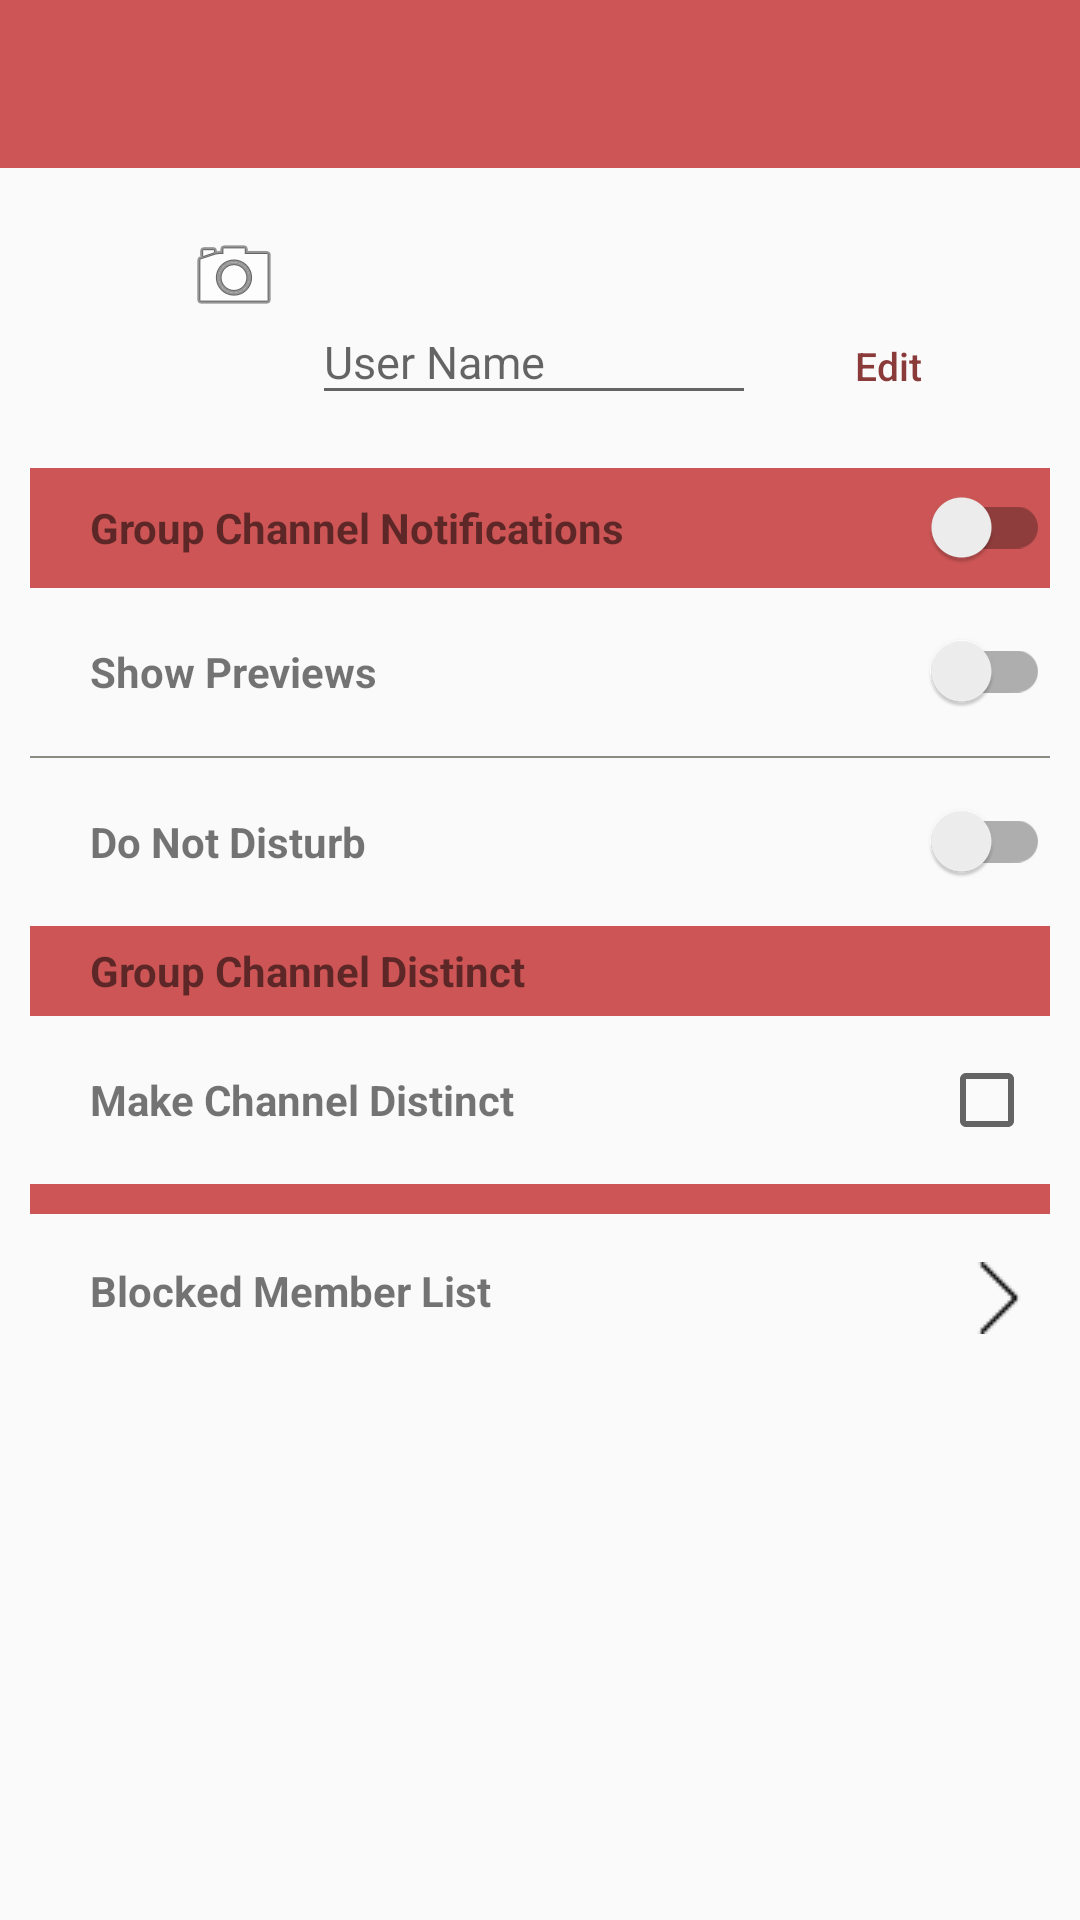

Icons on this 1080px×1920px Android screen, each with its box as (x1, y1, x2, y2):
arrow next: (979, 1262, 1018, 1334)
camera: (197, 245, 271, 304)
